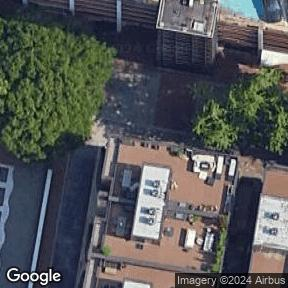vegetation: (0, 0, 116, 162), (190, 69, 288, 153), (209, 228, 229, 273), (101, 244, 111, 255)
